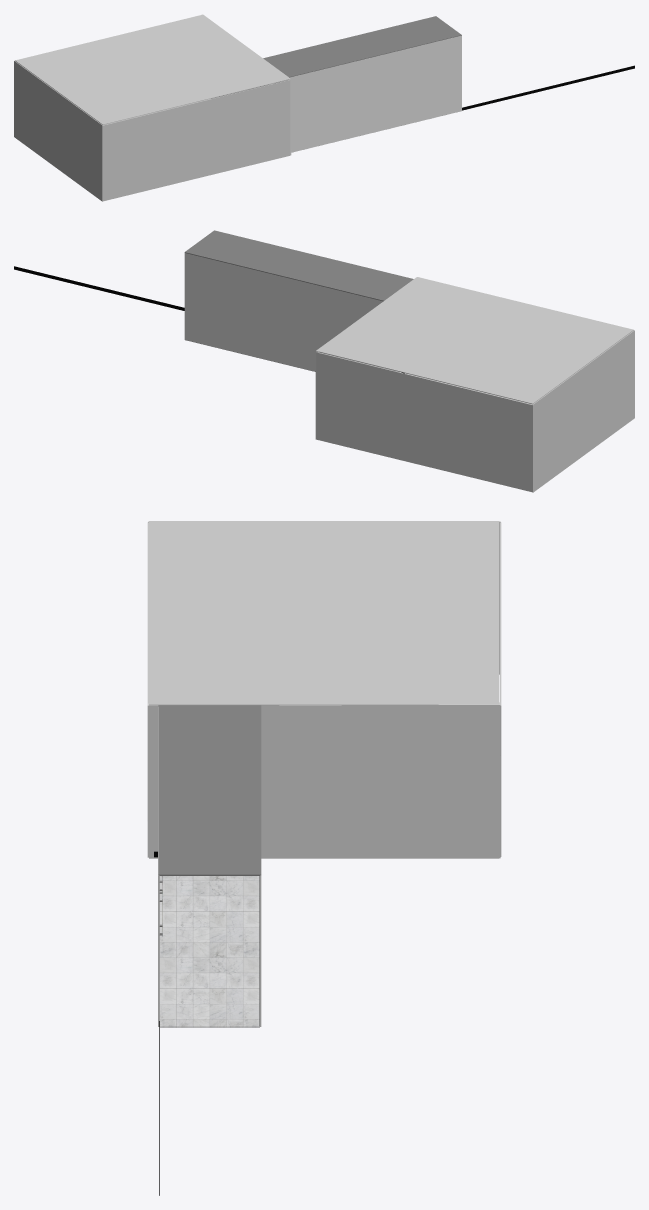
File: hallRoom.fbx
3 views of the same model, one above another, from view 1: azimuth 30°, elevation 25°; view 2: azimuth 150°, elevation 25°; view 3: azimuth 270°, elevation 25° (orthographic). The views are drawn at different scales.
Parts seen in each view (by area): view 1: roomCeiling, roomWall, hallWall2, roomWall3, hellCeiling_metal, hallMolding001; view 2: roomCeiling, roomWall2, hallWall, roomWall3, hellCeiling_metal, hallMolding001; view 3: roomCeiling, doorWall, hellCeiling_metal, hallFloor.
Boxes of the visible parts, left/top/right/bottom form: roomCeiling: left=15, top=14, right=290, bottom=124; roomWall: left=102, top=80, right=290, bottom=201; hallWall2: left=290, top=35, right=461, bottom=152; roomWall3: left=14, top=60, right=102, bottom=201; hellCeiling_metal: left=263, top=16, right=461, bottom=77; hallMolding001: left=462, top=65, right=634, bottom=110; roomCeiling: left=316, top=277, right=633, bottom=404; roomWall2: left=316, top=352, right=533, bottom=492; hallWall: left=184, top=253, right=382, bottom=371; roomWall3: left=532, top=330, right=634, bottom=492; hellCeiling_metal: left=184, top=230, right=413, bottom=301; hallMolding001: left=14, top=266, right=184, bottom=310; roomCeiling: left=149, top=521, right=499, bottom=705; doorWall: left=147, top=702, right=500, bottom=858; hellCeiling_metal: left=158, top=705, right=261, bottom=875; hallFloor: left=159, top=876, right=259, bottom=1027.
Bounding box in the file's own units: 889 × 122 × 254.
Materials: 7 (3 with a texture image).
